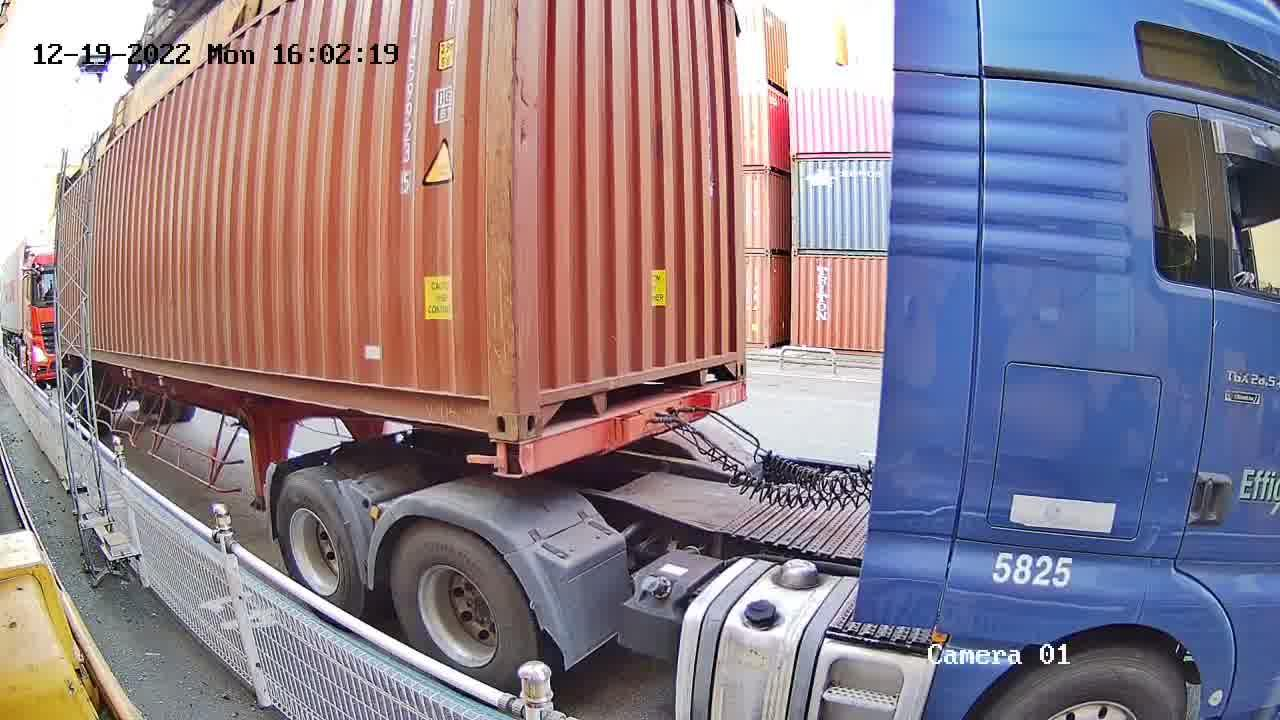Chassis: (498, 378, 749, 476)
Cone: (491, 440, 518, 475)
Hole_L: (516, 368, 575, 440)
Hole_R: (457, 371, 517, 443), (705, 332, 748, 385)
Tire: (393, 527, 536, 680), (277, 475, 358, 605)
